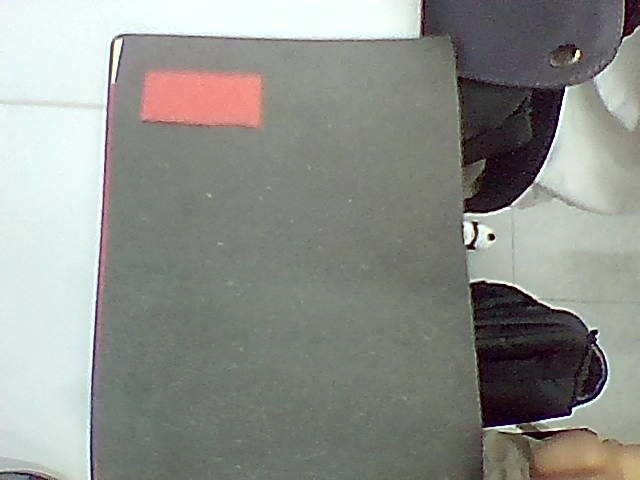card: (140, 71, 262, 127)
